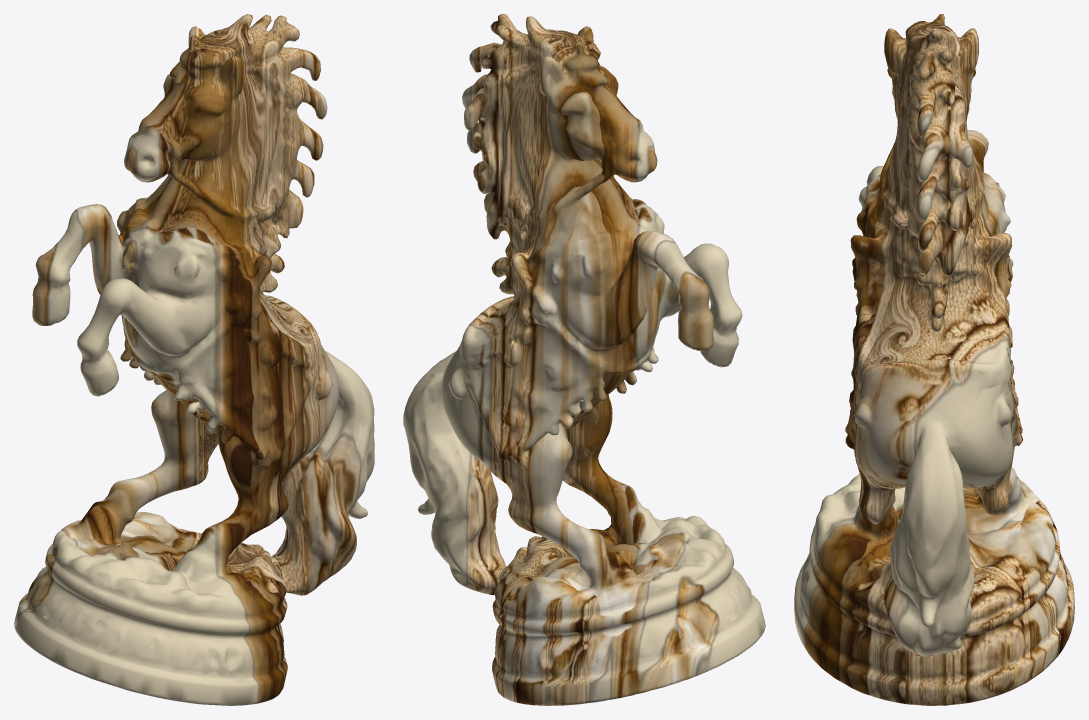
The model's file is ashva.glb.
The picture shows the model from 3 angles, left to right: view 1: azimuth 30°, elevation 25°; view 2: azimuth 150°, elevation 25°; view 3: azimuth 270°, elevation 25°; orthographic projection. The views are drawn at different scales.
Parts seen in each view (by area): view 1: geometry_0; view 2: geometry_0; view 3: geometry_0.
Part boxes in pixels (x1,y1,x2,y2): geometry_0: (14,14,374,705); geometry_0: (403,14,765,705); geometry_0: (794,14,1074,705).
Bounding box in the file's own units: 1.11 × 2.04 × 0.7751.
Materials: 1 (1 with a texture image).
